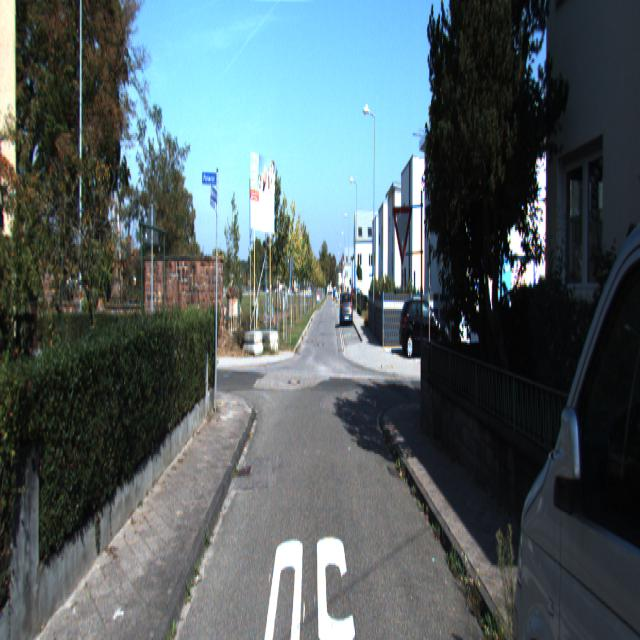Car: (399, 294, 451, 363), (340, 290, 353, 326)
